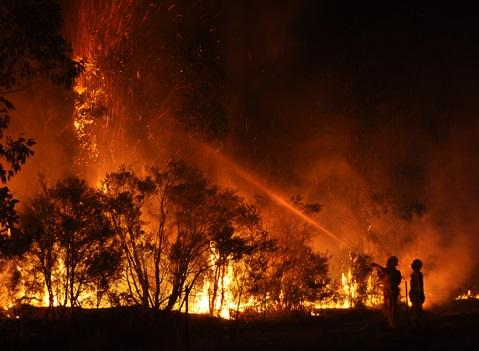fire: (26, 263, 91, 312), (197, 269, 243, 314), (334, 274, 384, 308), (84, 79, 99, 127)
